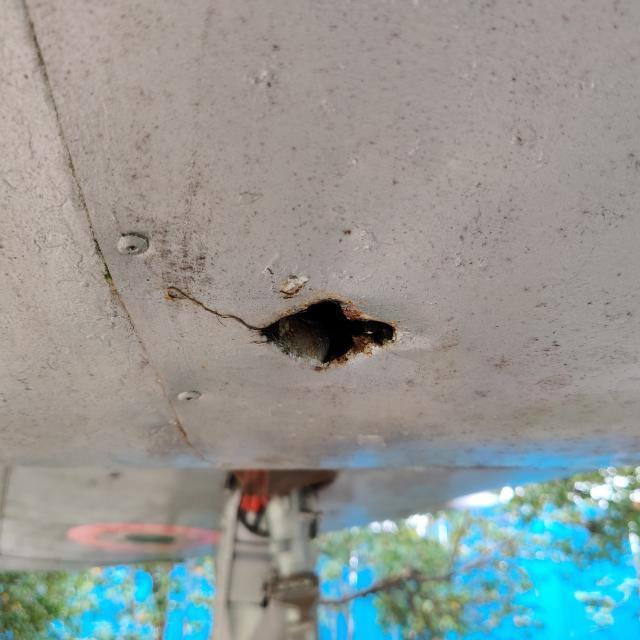Crack: (166, 288, 396, 369)
